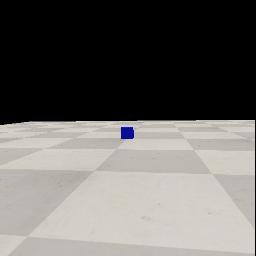box: (121, 127, 134, 139)
